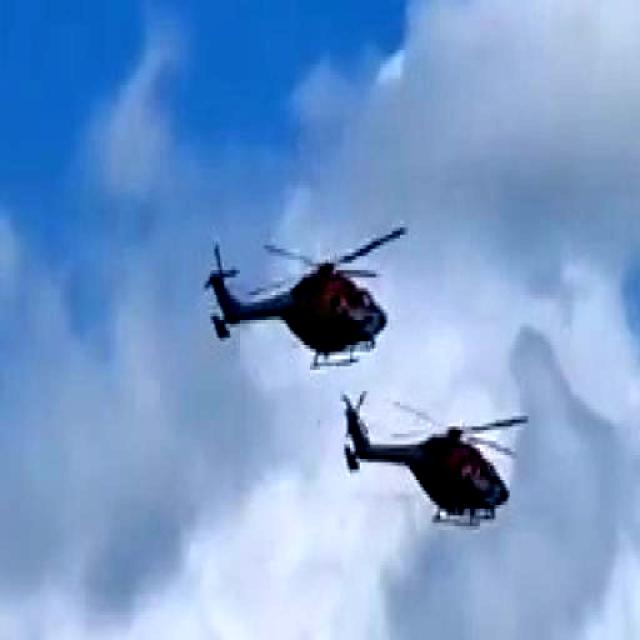drone: (199, 216, 414, 379), (338, 398, 528, 532)
